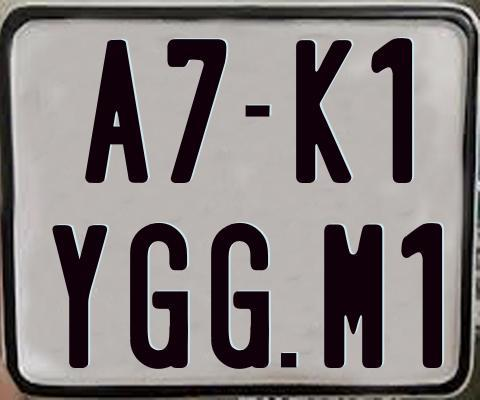1: (400, 222, 447, 372), (369, 35, 412, 182)
7: (166, 36, 231, 186)
A: (84, 39, 148, 187)
G: (209, 221, 270, 368), (127, 220, 185, 372)
K: (296, 38, 352, 181)
M: (321, 224, 383, 372)
Y: (49, 224, 110, 368)
